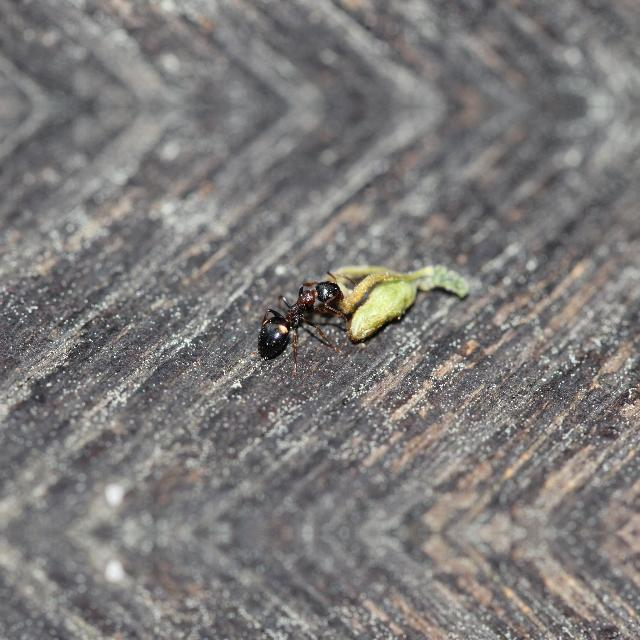Dolichoderus: (234, 260, 368, 364)
